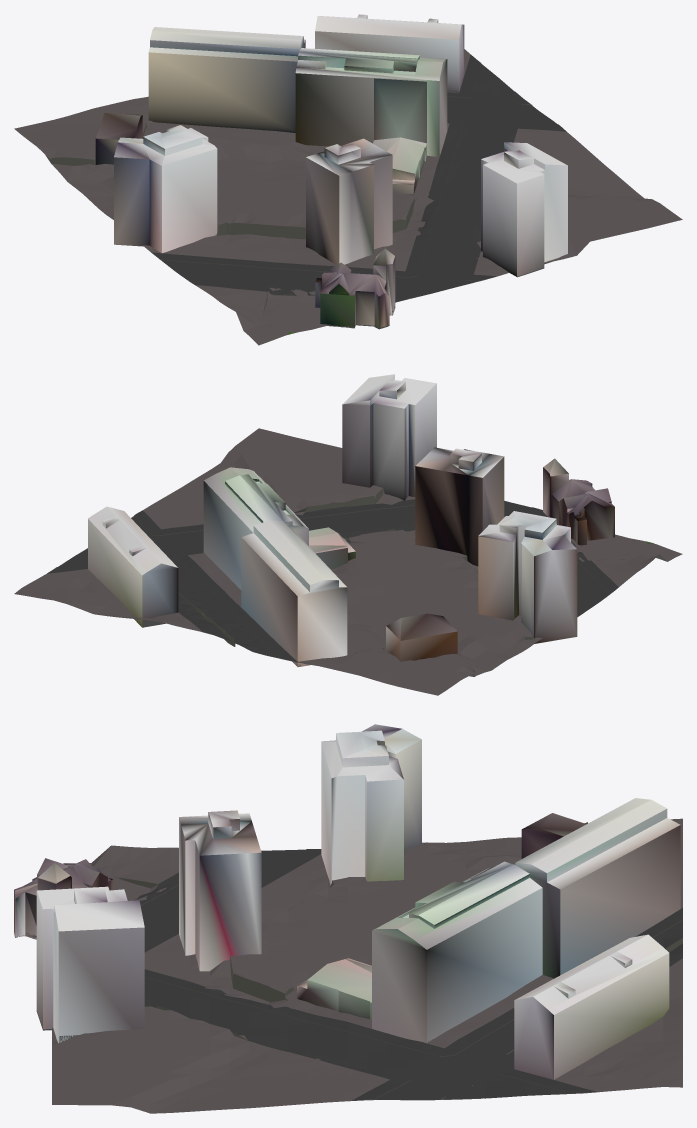
The picture shows the model from 3 angles, top to bottom: view 1: azimuth 30°, elevation 25°; view 2: azimuth 150°, elevation 25°; view 3: azimuth 270°, elevation 25°; orthographic projection. The views are drawn at different scales.
Visible parts, largest first — view 1: c_m04_m13; view 2: c_m04_m13; view 3: c_m04_m13.
Part boxes in pixels (<box>): c_m04_m13: <box>14,14,682,345</box>; c_m04_m13: <box>14,374,682,695</box>; c_m04_m13: <box>14,724,682,1113</box>.
Size of the model in its own units: 134 by 32.94 by 136.
